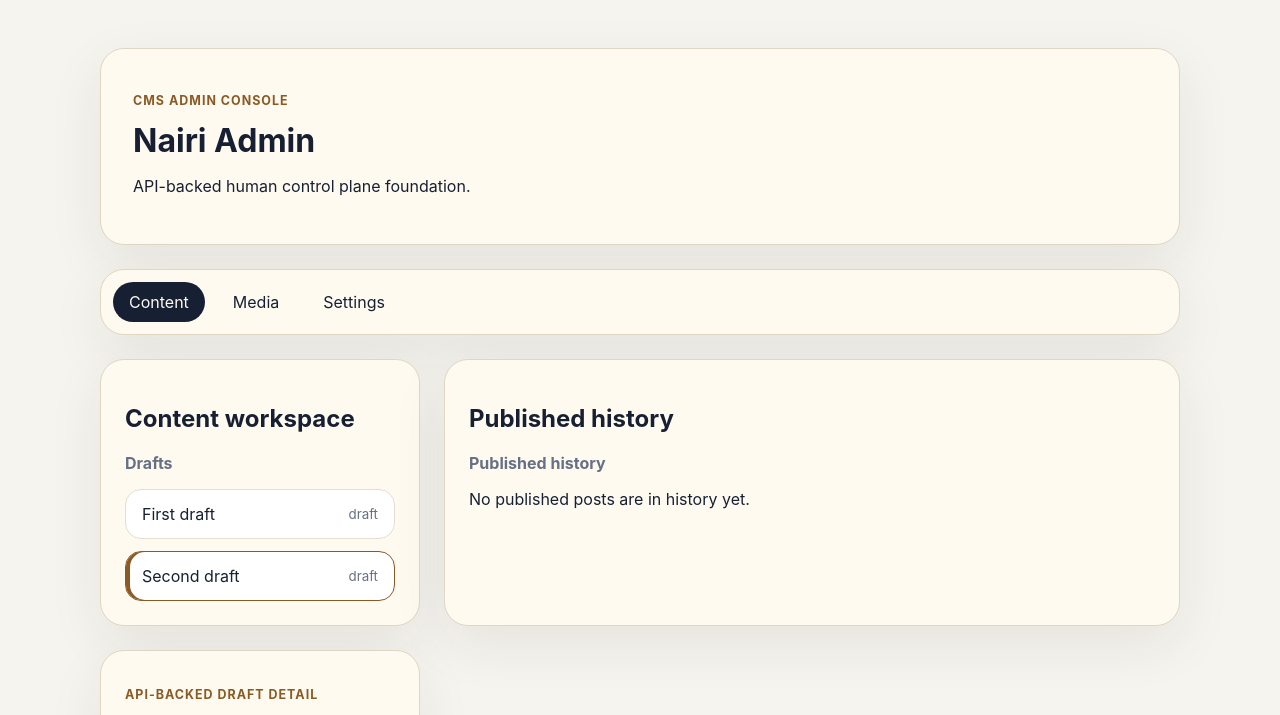
Nairi admin console shell › adopts hash routes for admin modules and selected content detail
Click the link "Media" at (256, 302), box top-left (233, 292), bottom-right (279, 312)
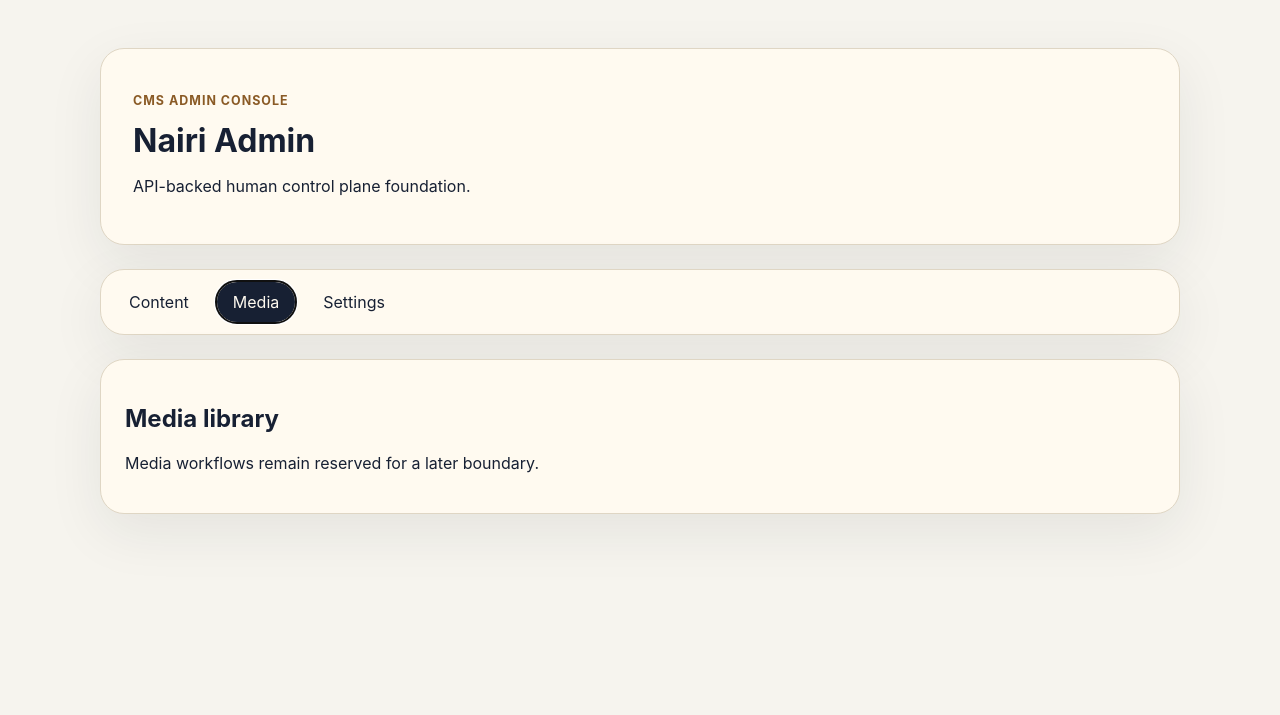
Check: the heading "Media library" is shown, box top-left (125, 404), bottom-right (279, 433)
